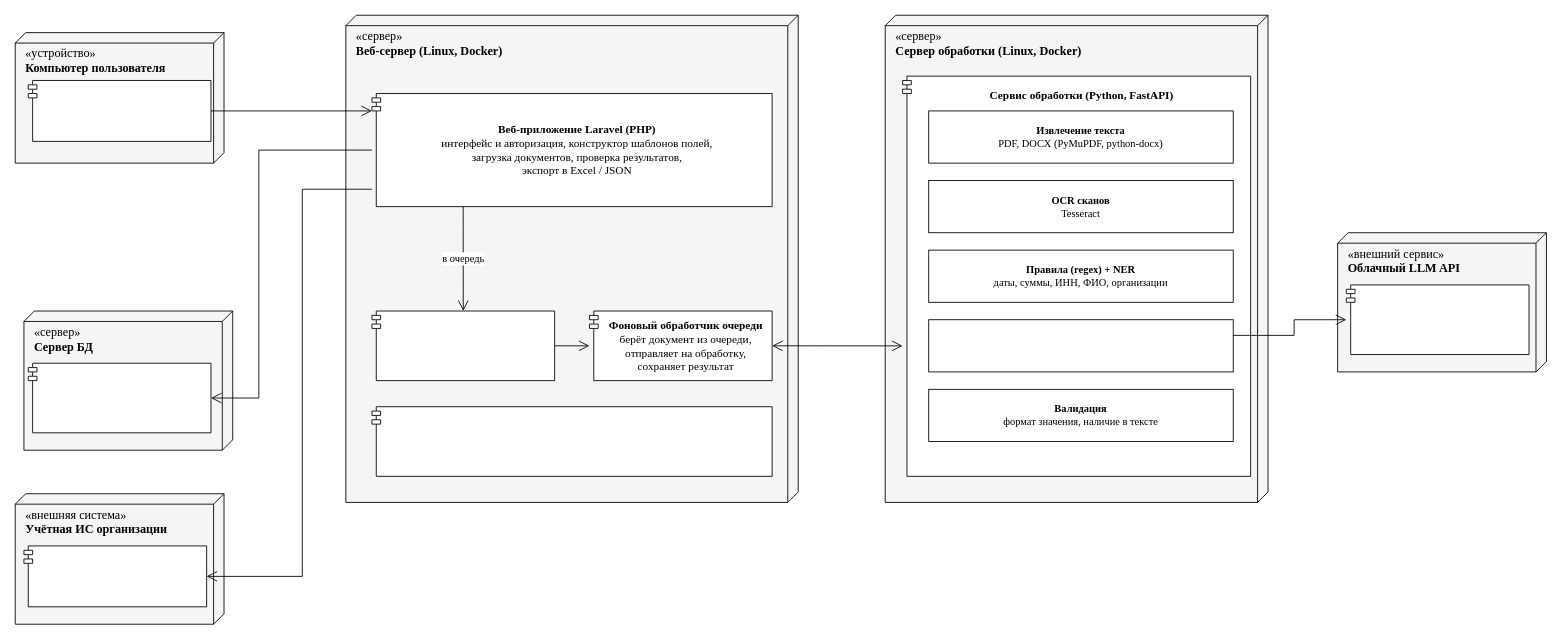
This 1562x639 diagram has some shape labels left out. Here are the shapes that lost their labels. From the top down, the centre of each, then its label:
point (119, 110): Веб-браузер интерфейс сервиса
point (1437, 319): LLM API (GigaChat, YandexGPT, Deepseek и др.)
point (463, 345): Очередь документов список документов, ожидающих обработки (Redis)
point (1080, 345): Модуль LLM только ненайденные поля или поля с низкой уверенностью
point (119, 397): СУБД PostgreSQL пользователи, шаблоны, результаты
point (571, 441): Файловое хранилище исходные документы, файлы экспорта
point (115, 576): REST API приёма данных (1С, CRM, HR-система)
